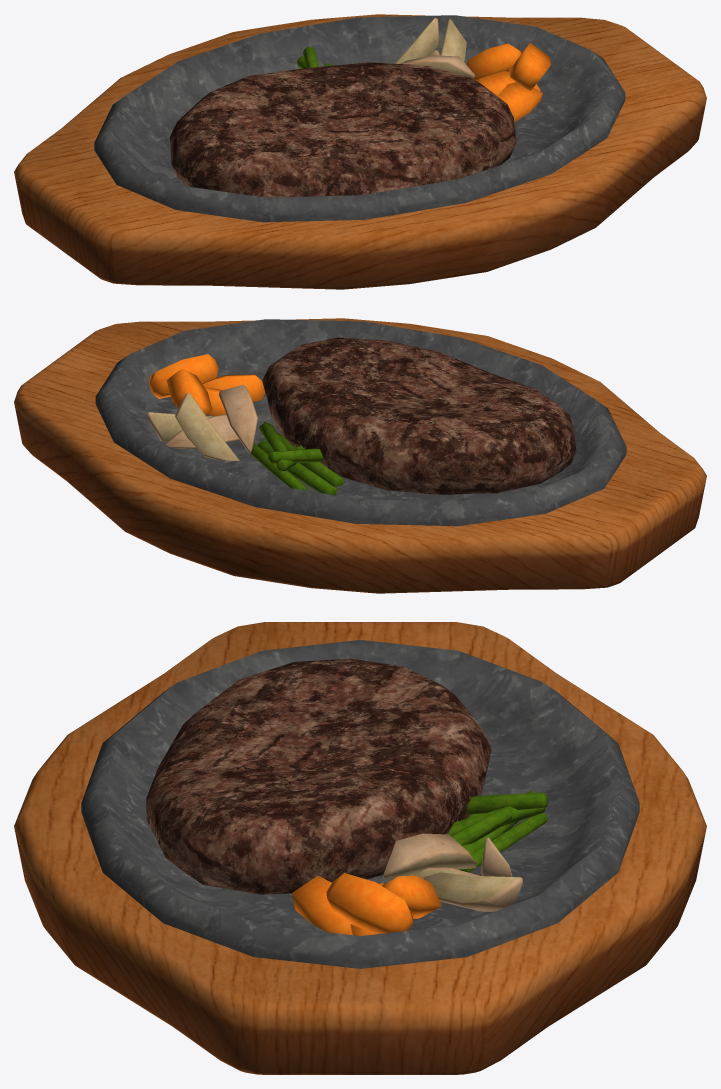
Rendered from Stake_B.fbx.
3 views of the same model, one above another, from view 1: azimuth 30°, elevation 25°; view 2: azimuth 150°, elevation 25°; view 3: azimuth 270°, elevation 25° (orthographic). The views are drawn at different scales.
Visible parts, largest first — view 1: Stake_B; view 2: Stake_B; view 3: Stake_B.
Part boxes in pixels (left/top/right/bottom): Stake_B: left=14, top=14, right=706, bottom=289; Stake_B: left=14, top=318, right=706, bottom=593; Stake_B: left=14, top=622, right=706, bottom=1074.
Bounding box in the file's own units: 0.5697 × 0.0862 × 0.4253.
